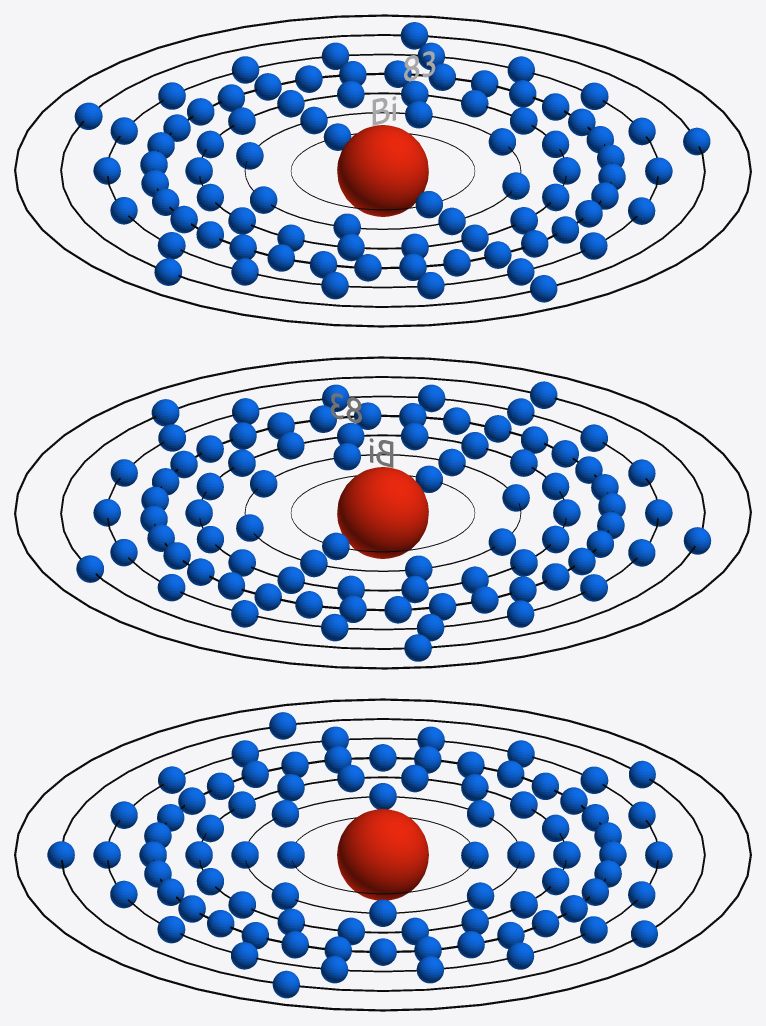
The picture shows the model from 3 angles, top to bottom: view 1: azimuth 30°, elevation 25°; view 2: azimuth 150°, elevation 25°; view 3: azimuth 270°, elevation 25°; orthographic projection.
Parts seen in each view (by area): view 1: Bi4, Bi5, Bi3, Proton, Bi2, n7, n6, Bi6, n5, Bi1, n3, n4 (+1 smaller); view 2: Bi4, Bi5, Bi3, Proton, Bi2, n7, n6, Bi6, n5, Bi1, n3, n4 (+1 smaller); view 3: Bi4, Bi3, Bi5, Proton, Bi2, n7, n6, Bi6, n5, Bi1, n3, n4 (+2 smaller).
Boxes of the visible parts, x1,y1,x2,y2 form: Bi4: (140,60,625,281); Bi5: (93,42,672,299); Bi3: (185,80,580,261); Proton: (337,125,428,216); Bi2: (236,101,529,238); n7: (14,14,751,327); n6: (60,34,705,307); Bi6: (74,22,710,302); n5: (107,53,658,288); Bi1: (323,123,442,218); n3: (199,92,566,249); n4: (152,72,611,269); Bi4: (140,402,625,623); Bi5: (93,384,672,641); Bi3: (185,422,580,603); Proton: (337,467,428,558); Bi2: (236,443,529,580); n7: (14,356,751,669); n6: (60,376,705,649); Bi6: (76,381,711,661); n5: (107,395,658,630); Bi1: (322,465,442,560); n3: (199,434,566,591); n4: (153,414,613,611); Bi4: (139,744,626,965); Bi3: (185,764,580,945); Bi5: (93,726,672,983); Proton: (337,809,428,900); Bi2: (231,783,534,926); n7: (14,698,751,1011); n6: (61,718,705,991); Bi6: (47,712,657,998); n5: (107,737,658,972); Bi1: (277,841,488,869); n3: (199,776,566,933); n4: (153,757,612,952).
Bounding box in the file's own units: 802 × 180 × 802.
